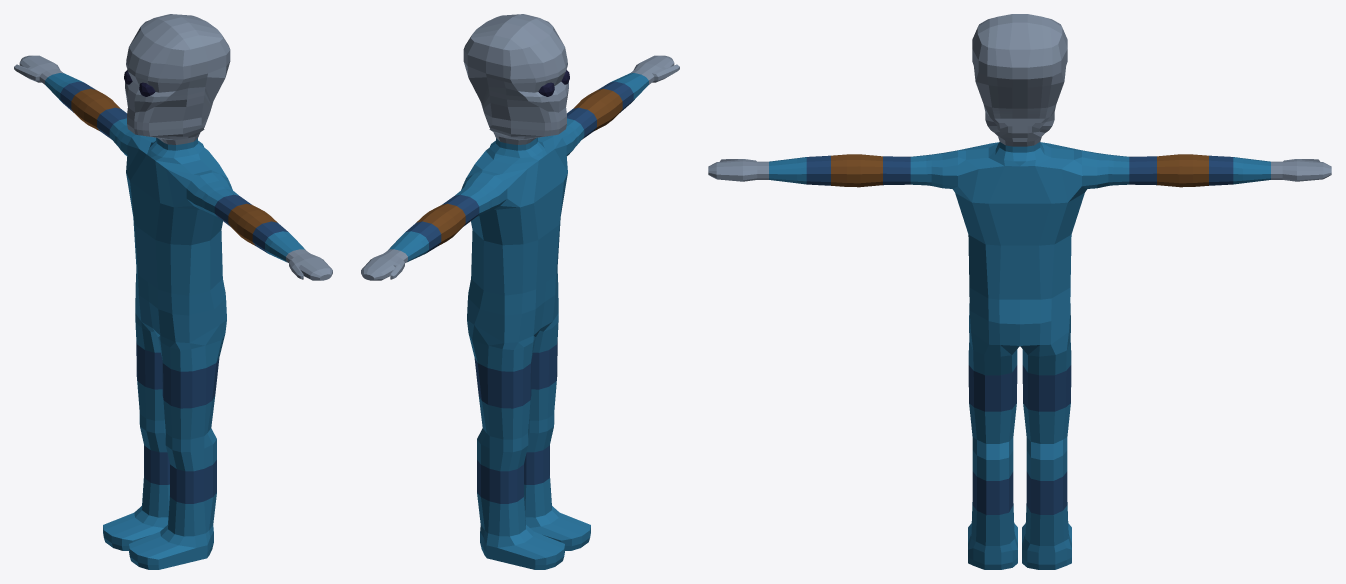
File: Alien_BasicInfantry.fbx
3 views of the same model, side by side, from view 1: azimuth 30°, elevation 25°; view 2: azimuth 150°, elevation 25°; view 3: azimuth 270°, elevation 25° (orthographic). The views are drawn at different scales.
Parts seen in each view (by area): view 1: Cube; view 2: Cube; view 3: Cube.
Boxes of the visible parts, x1=… form: Cube: x1=14, y1=14, x2=332, y2=569; Cube: x1=361, y1=14, x2=679, y2=569; Cube: x1=708, y1=14, x2=1331, y2=569.
Size of the model in its own units: 252 by 1253 by 1306.
